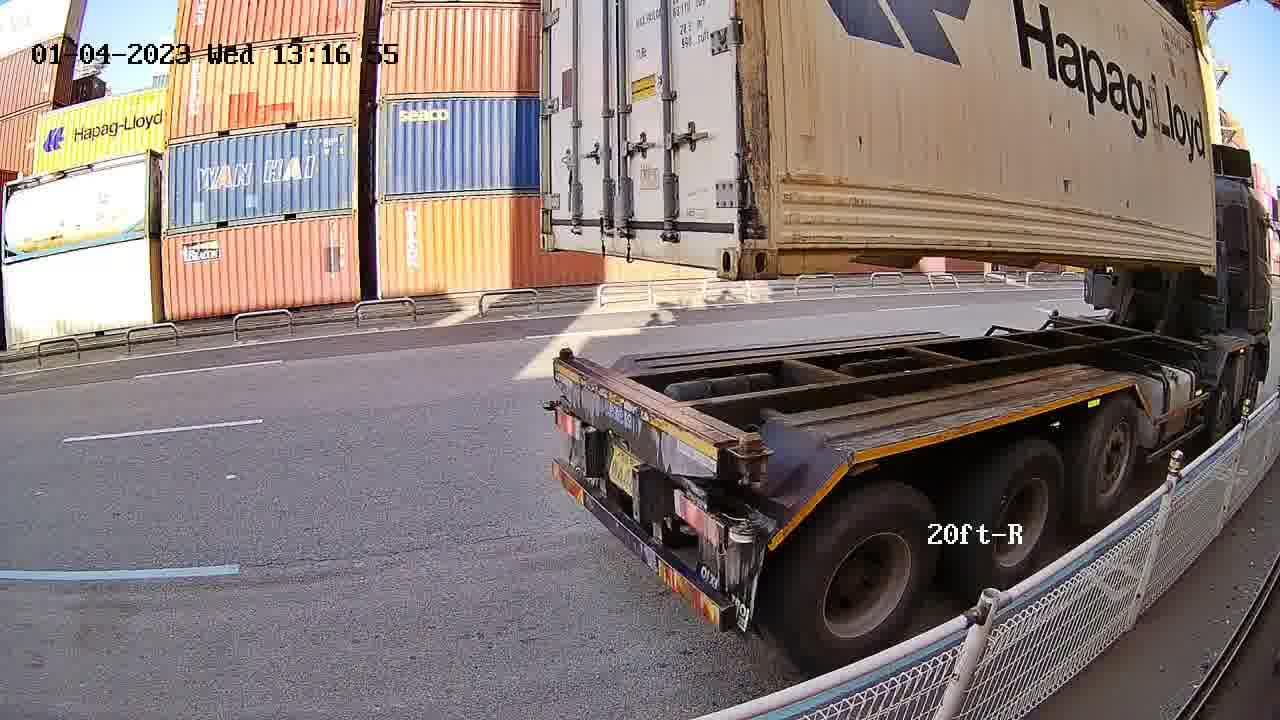Chassis: (553, 358, 757, 476)
Cone: (729, 433, 769, 490), (555, 347, 576, 367)
Hole_L: (738, 210, 809, 281), (540, 214, 570, 253)
Hole_R: (688, 210, 738, 284)
Tire: (783, 484, 938, 670), (970, 445, 1066, 594), (1077, 399, 1140, 527)
